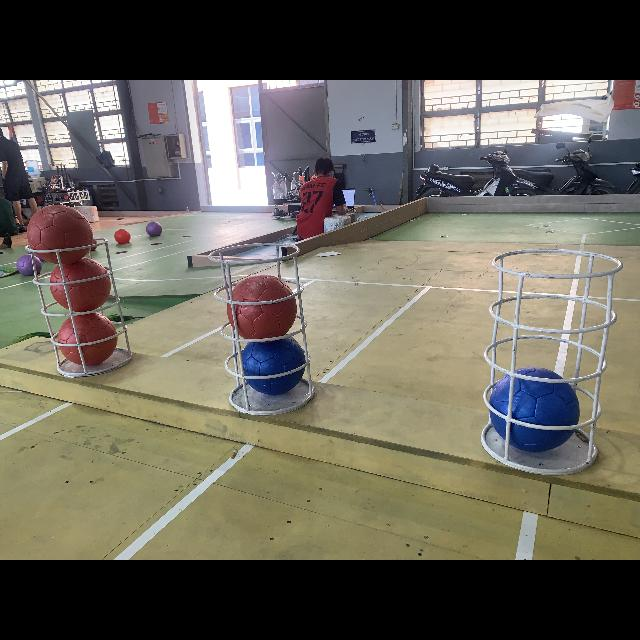B: (490, 368, 580, 454), (240, 337, 312, 398)
R: (228, 276, 296, 338), (27, 206, 99, 258), (50, 258, 116, 312), (59, 314, 118, 366)
